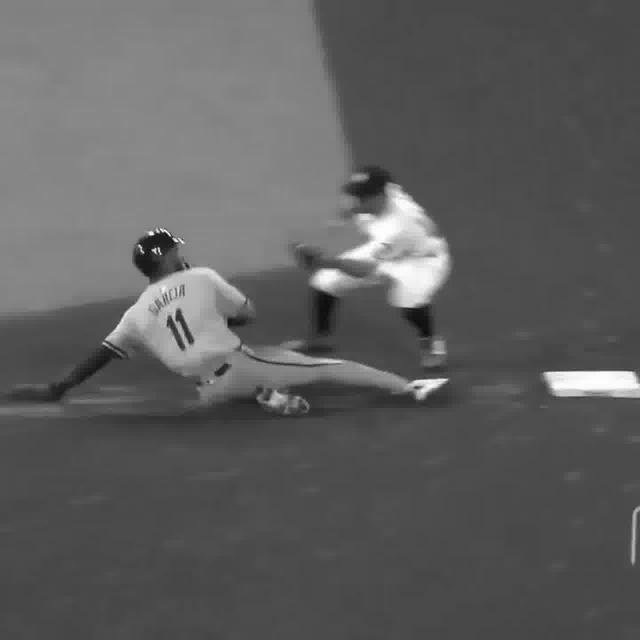base: (545, 372, 640, 400)
baseball_glove: (293, 238, 325, 266)
shoe: (255, 392, 304, 414), (417, 340, 448, 374), (286, 337, 334, 357), (410, 379, 449, 398)
